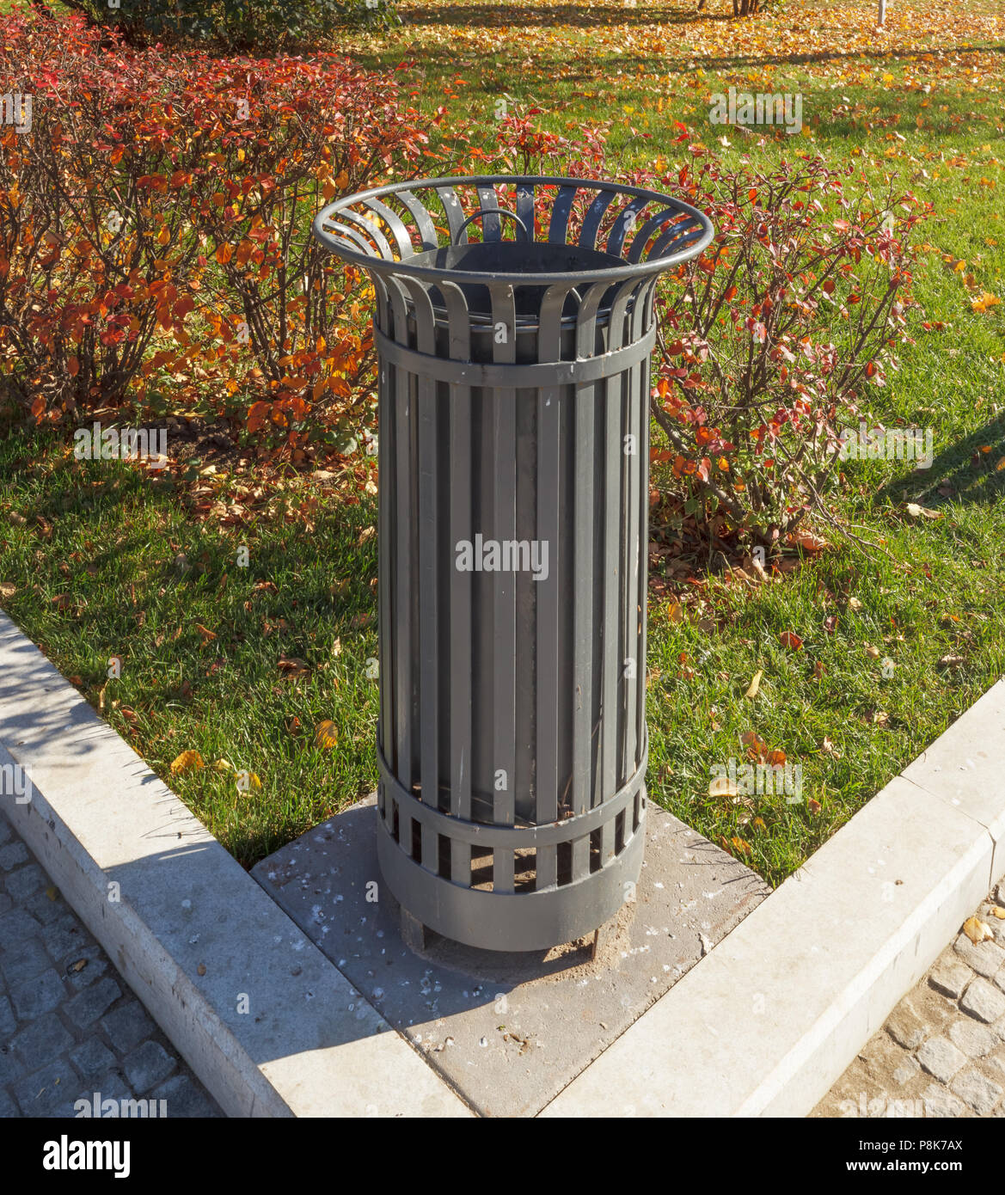empty: (309, 172, 716, 960)
